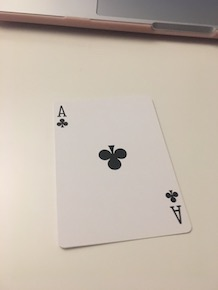AceOfClubs: (46, 90, 195, 251)
